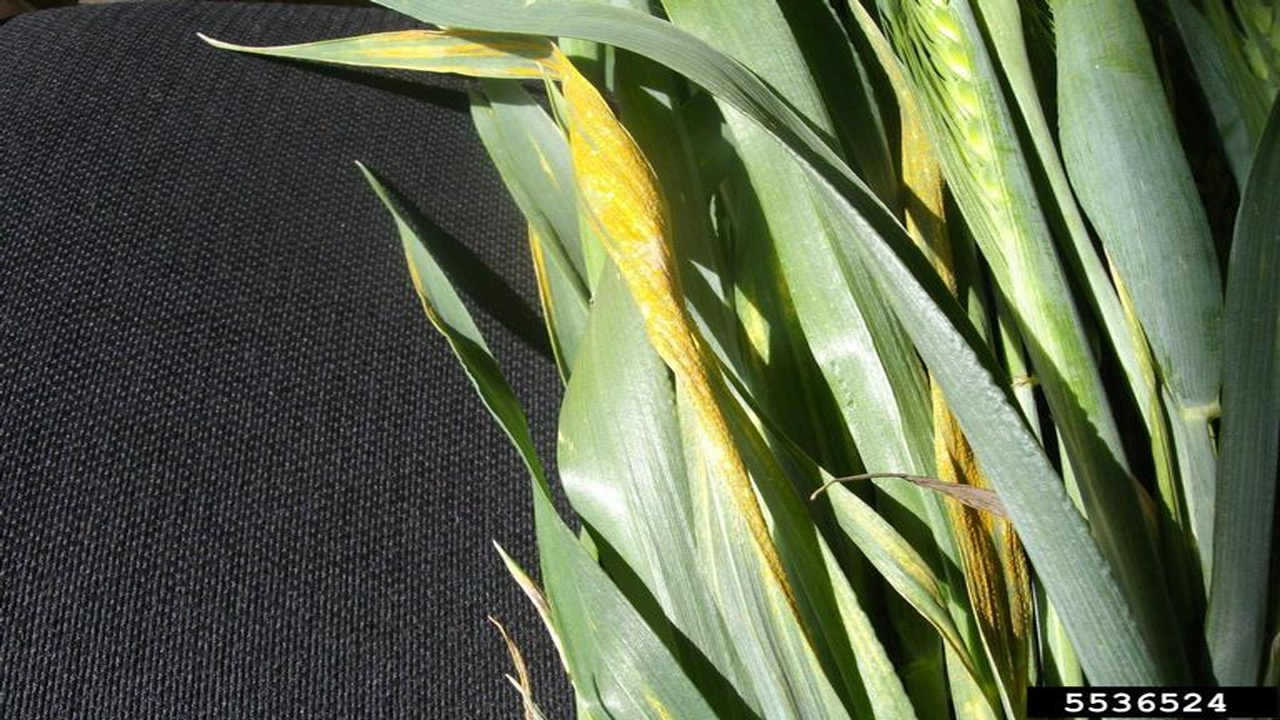stripe_rust: (367, 175, 710, 720), (563, 61, 802, 630), (792, 462, 963, 654), (931, 376, 1034, 684), (852, 1, 951, 300), (196, 36, 563, 93)
